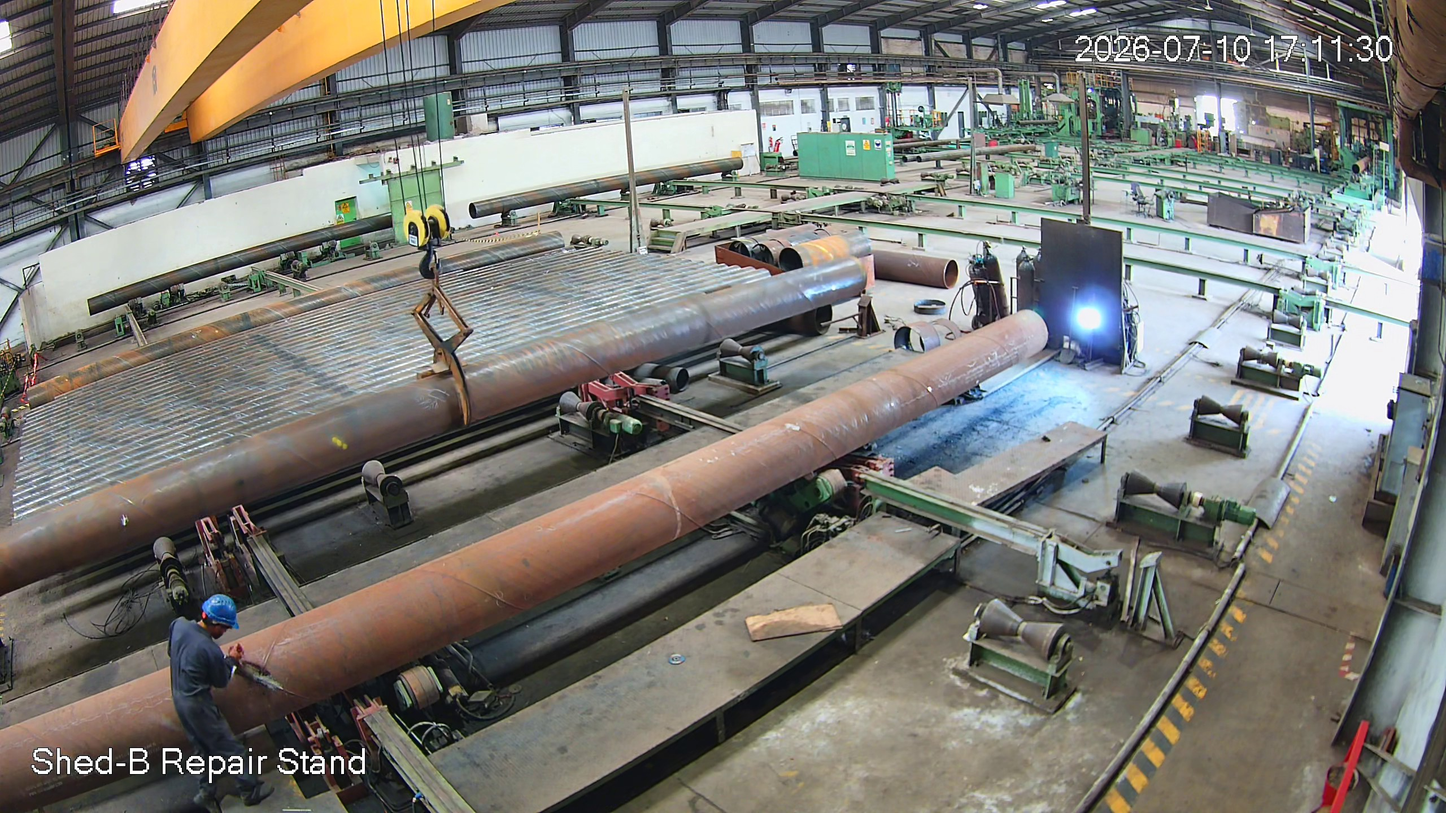Helmet: (180, 584, 239, 648)
Person: (156, 593, 281, 813)
